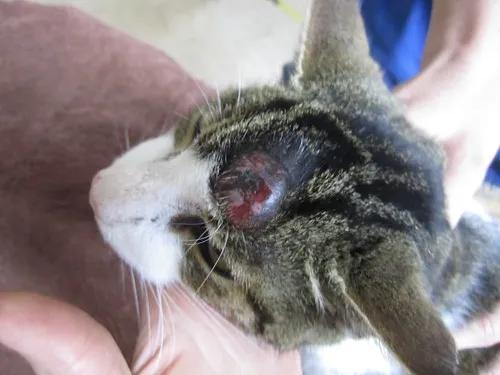lump_and_bump: (221, 143, 289, 233)
